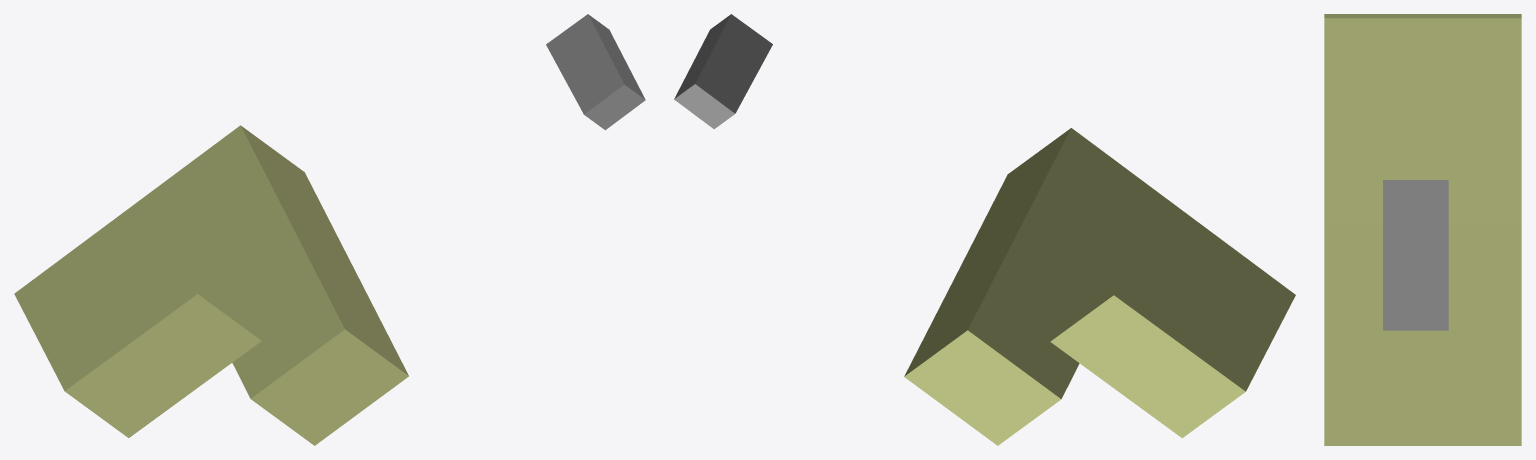
The picture shows the model from 3 angles, left to right: view 1: azimuth 30°, elevation 25°; view 2: azimuth 150°, elevation 25°; view 3: azimuth 270°, elevation 25°; orthographic projection. The views are drawn at different scales.
Parts seen in each view (by area): view 1: 0_1_1_3_2_0_2_3_1; view 2: 0_1_1_3_2_0_2_3_1; view 3: 0_1_1_3_2_0_2_3_1.
Boxes of the visible parts, x1=… form: 0_1_1_3_2_0_2_3_1: x1=14, y1=14, x2=645, y2=445; 0_1_1_3_2_0_2_3_1: x1=674, y1=14, x2=1295, y2=445; 0_1_1_3_2_0_2_3_1: x1=1324, y1=14, x2=1521, y2=445.
Size of the model in its own units: 47.47 by 25.2 by 9.
